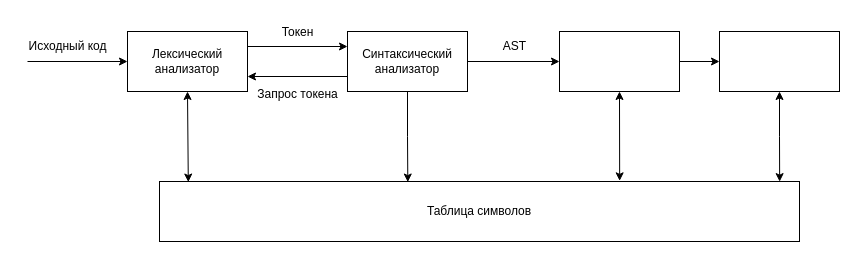
This 857x259 diagram has some shape labels left out. Each missing label, with the centre of its shape:
"Исполнитель (evaluator)" belongs at (779,61).
"Семантический анализатор" belongs at (619,61).
